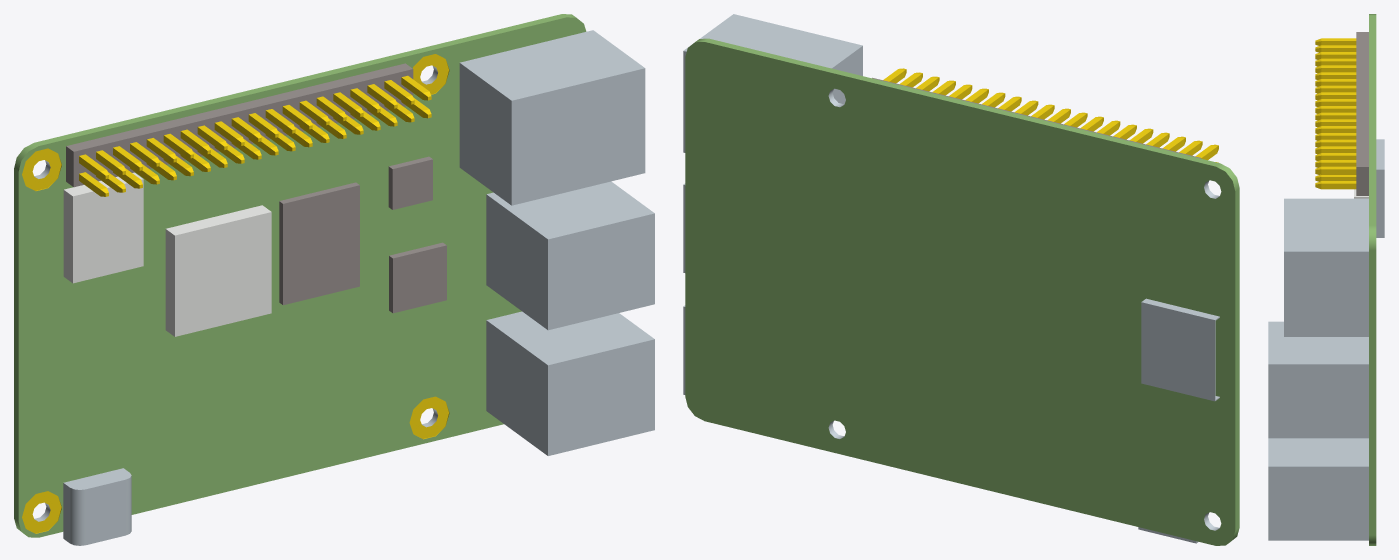
3 renders of one model, left to right at view 1: azimuth 30°, elevation 25°; view 2: azimuth 150°, elevation 25°; view 3: azimuth 270°, elevation 25°, orthographic. The views are drawn at different scales.
Visible parts, largest first — view 1: Raspberry Pi 4B; view 2: Raspberry Pi 4B; view 3: Raspberry Pi 4B.
Boxes of the visible parts, x1,y1,x2,y2 form: Raspberry Pi 4B: (14, 14, 654, 545); Raspberry Pi 4B: (683, 14, 1239, 545); Raspberry Pi 4B: (1268, 14, 1384, 545).
Size of the model in its own units: 0.086 by 0.057 by 0.0185.
1 material, 1 textured.
